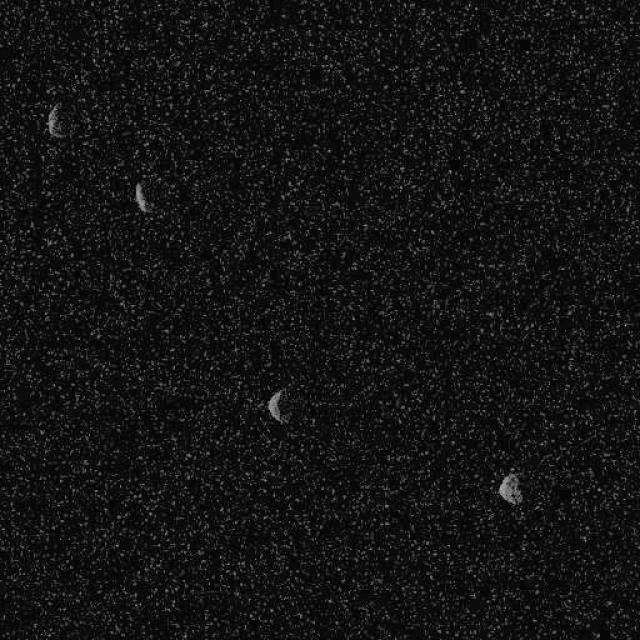D2: (45, 100, 71, 139), (497, 471, 522, 505), (266, 386, 288, 424), (132, 181, 152, 214)
